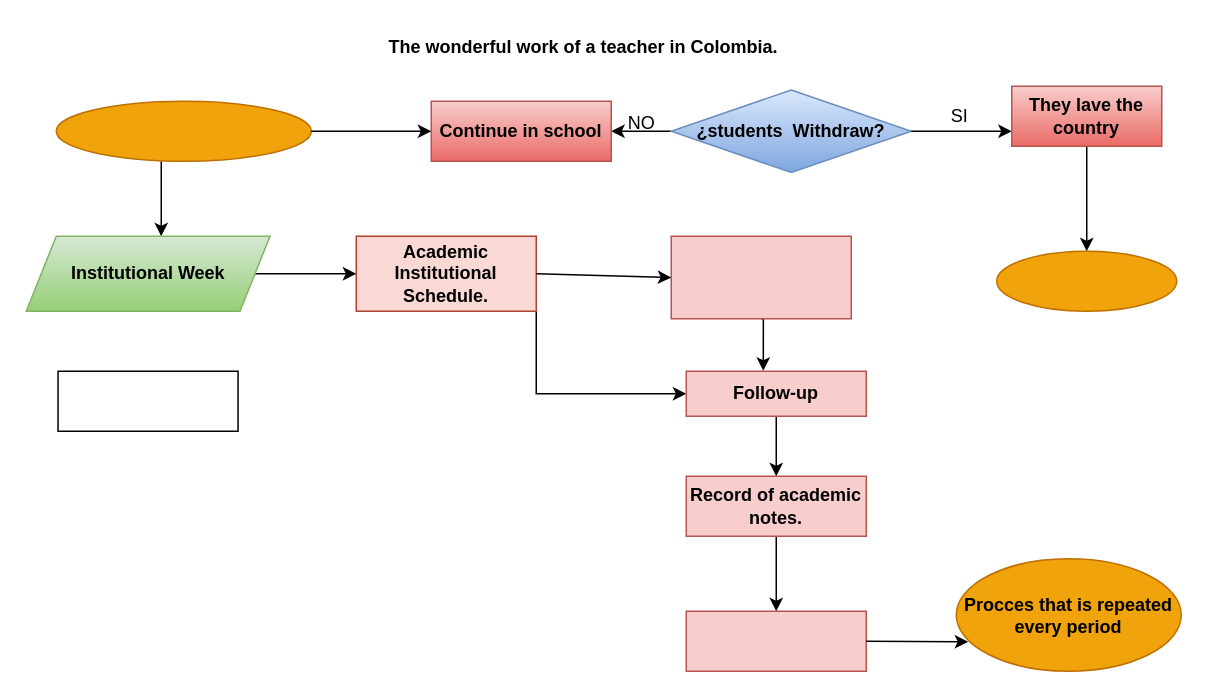
Image size: 1208x698. Some labels were removed from this diagram. The centre of each missing label's shape, as x and y in pixels:
"Deliver stationery." belongs at point 1086,280.
"Delivery of notas to guardians." belongs at point 775,640.
"Planning of classes by period of the school year." belongs at point 760,277.
"School year Initiation." belongs at point 183,130.
